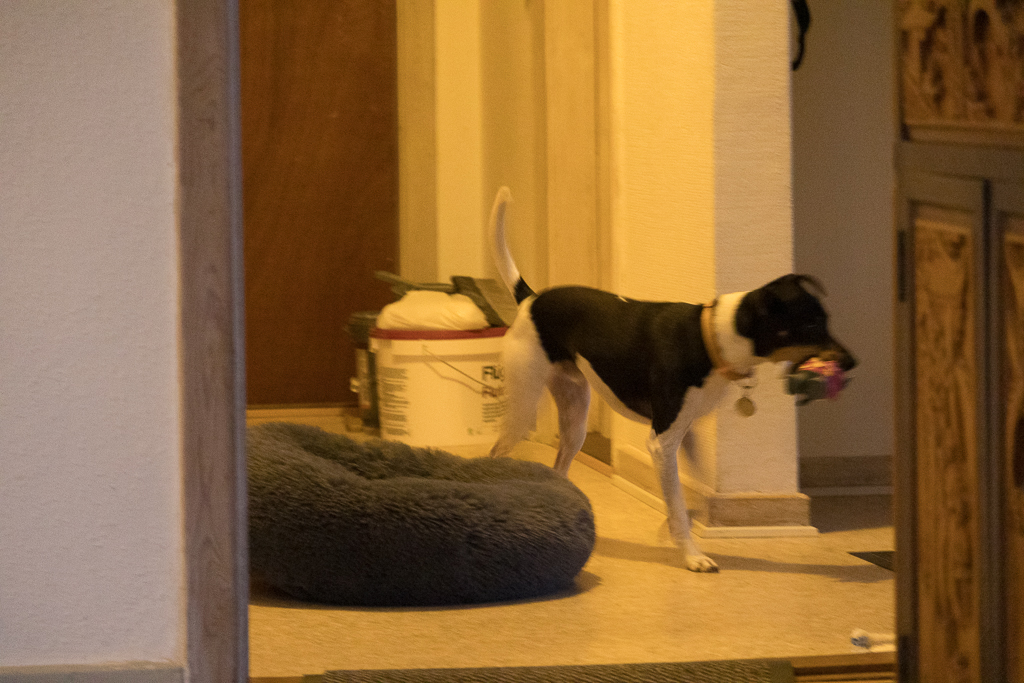Dog: (473, 174, 872, 583)
Humanoid: (777, 340, 857, 411)
